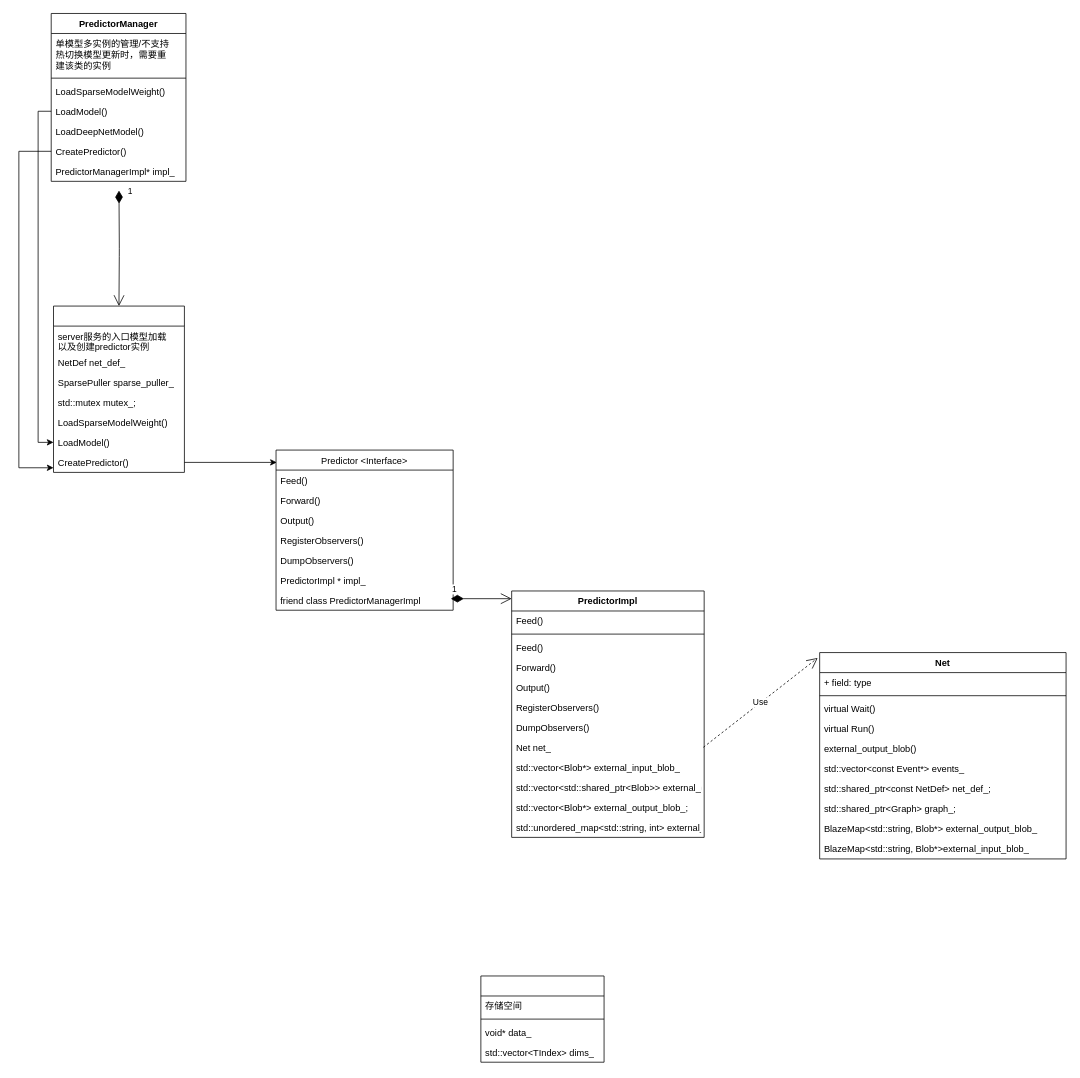
This 1080x1078 diagram has some shape labels left out. Here are the shapes that lost their labels. From the top down, the box of each, then its label:
(53, 305, 184, 472): PredictorManagerImpl
(480, 975, 604, 1062): Blob
